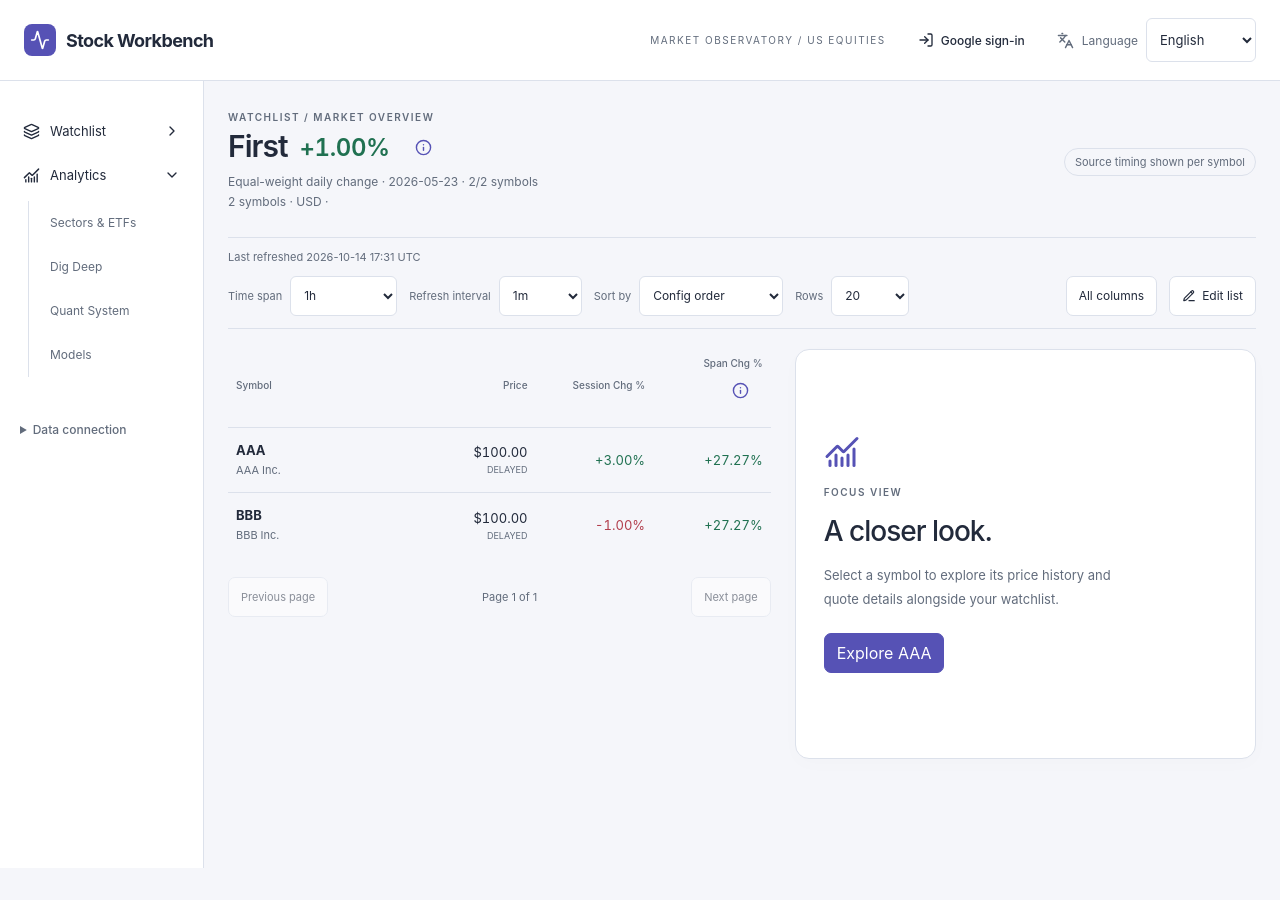
Test: Workbench › shows colored equal-weight returns for unvisited menus and the selected heading
Click the button "Watchlist". click: coordinates (102, 131)
box: [12,109,191,153]
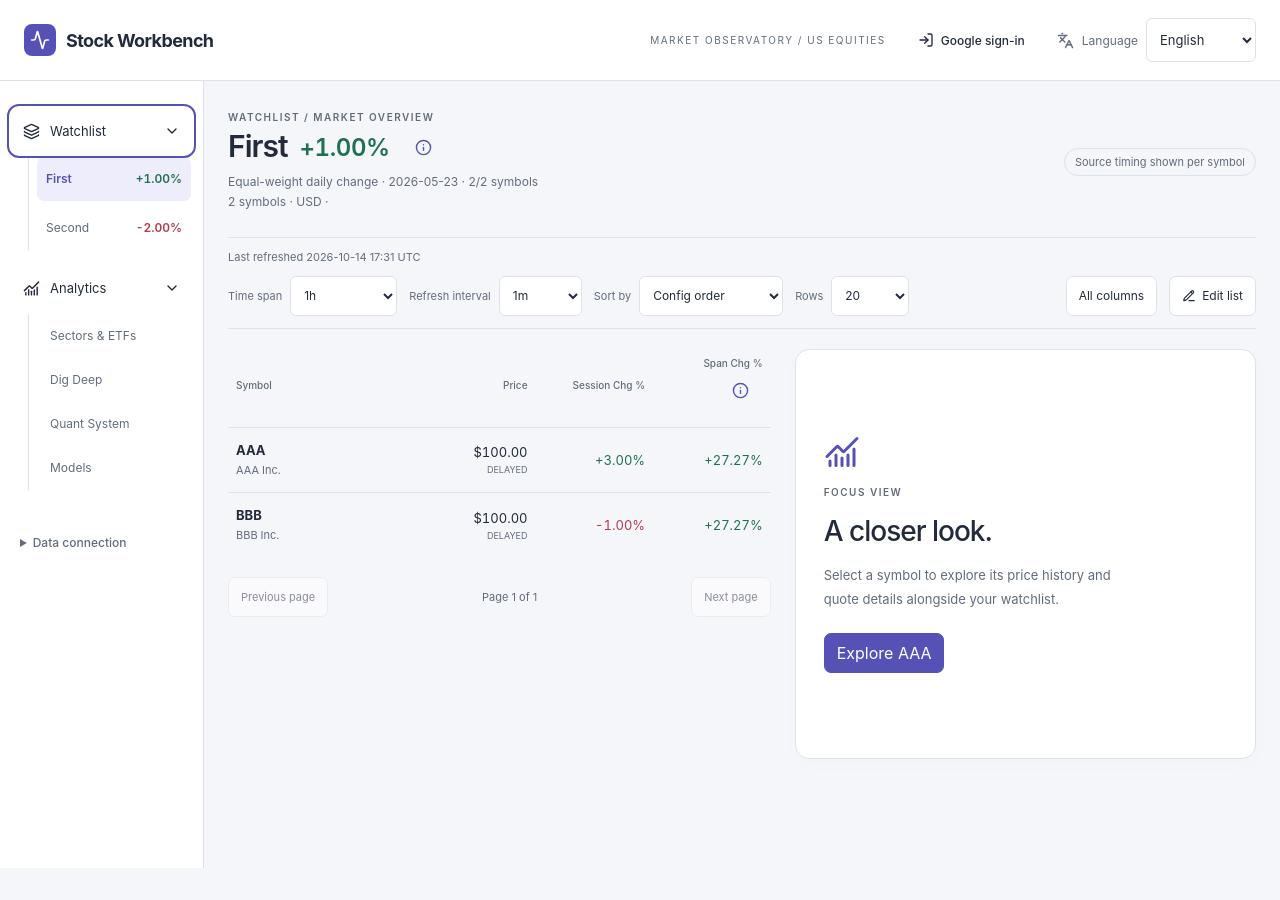
Expected: the text with class "watchlist-performance" below "WATCHLIST / MARKET OVERVIEW" reads "+1.00%", [300,133,390,162]
Click the button "Second -2.00%". click: coordinates (114, 228)
box: [37,206,191,250]
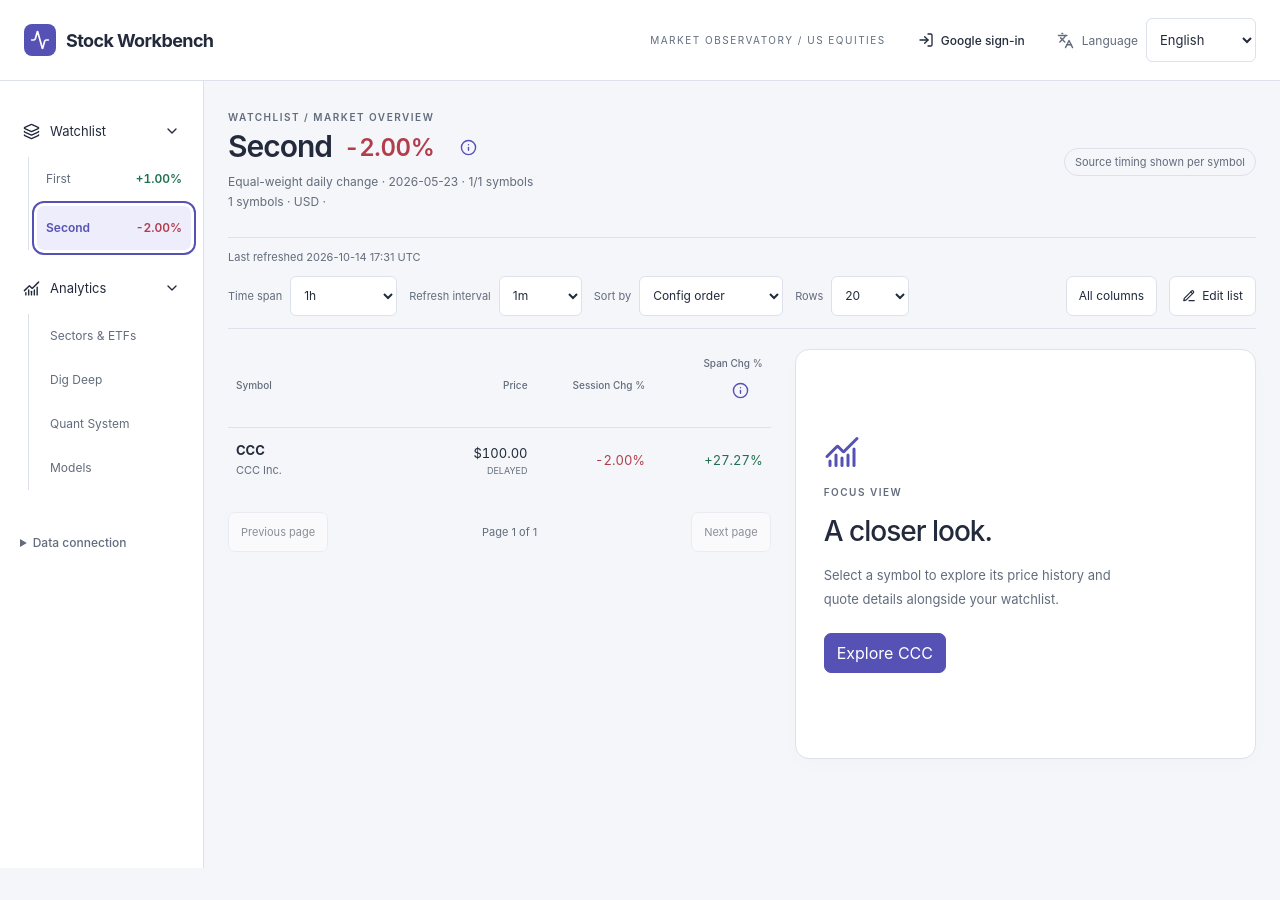
Expected: the text with class "watchlist-performance" below "WATCHLIST / MARKET OVERVIEW" reads "-2.00%", [344,133,434,162]
